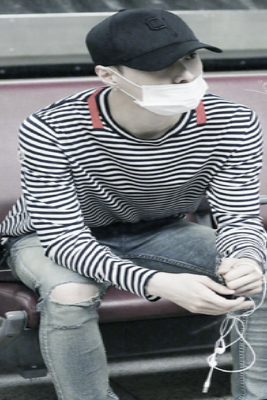mask_weared_incorrect: (123, 52, 203, 115)
